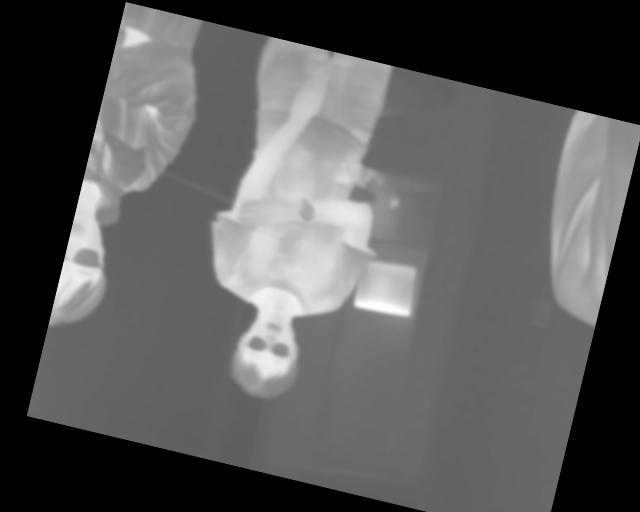face: (223, 304, 310, 406)
